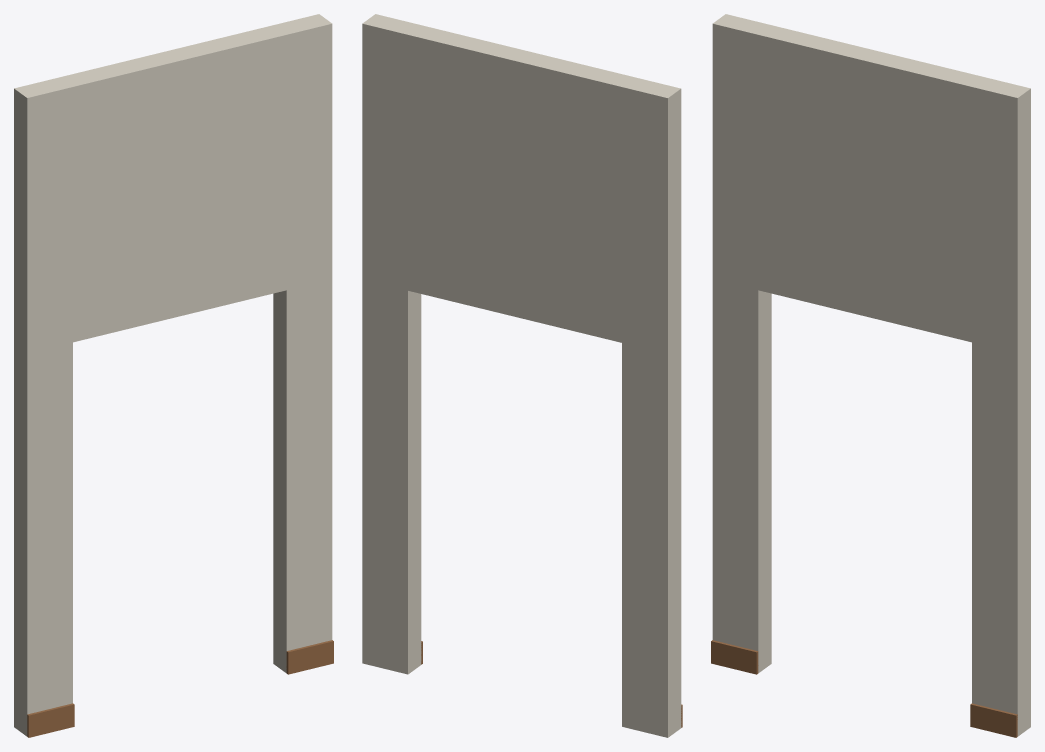
The model's file is Wall_Door_4x8.fbx.
The picture shows the model from 3 angles, left to right: view 1: azimuth 30°, elevation 25°; view 2: azimuth 150°, elevation 25°; view 3: azimuth 330°, elevation 25°; orthographic projection.
Visible parts, largest first — view 1: Wall_Door_4x8; view 2: Wall_Door_4x8; view 3: Wall_Door_4x8.
Boxes of the visible parts, x1=… form: Wall_Door_4x8: x1=14, y1=14, x2=333, y2=737; Wall_Door_4x8: x1=362, y1=14, x2=682, y2=737; Wall_Door_4x8: x1=711, y1=14, x2=1030, y2=737.
Bounding box in the file's own units: 400 × 800 × 33.5.
